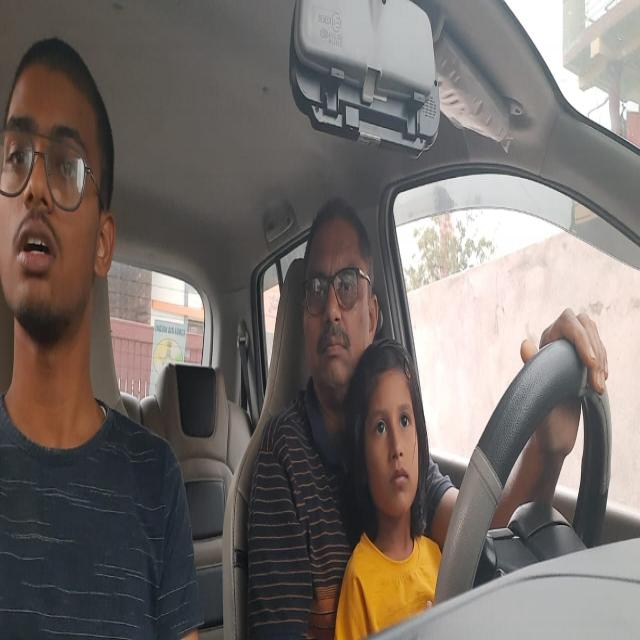LeftRight: (304, 198, 375, 391)
child: (347, 341, 425, 523)
person: (0, 41, 120, 339)
